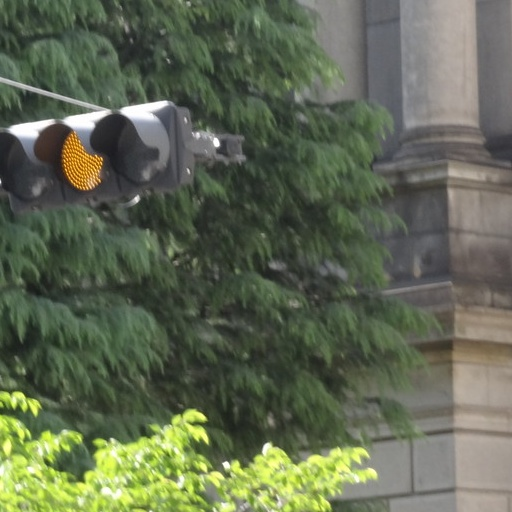Traffic_Signal_Yellow: (3, 92, 189, 195)
